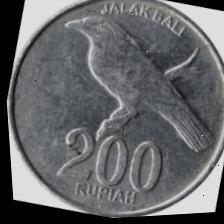coin_200_e2003: (10, 0, 224, 219)
